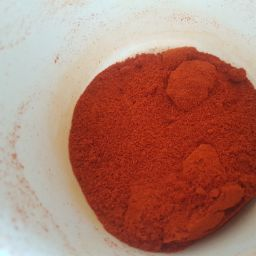Red chilli: (59, 41, 256, 220), (105, 88, 250, 243), (131, 110, 240, 200)
